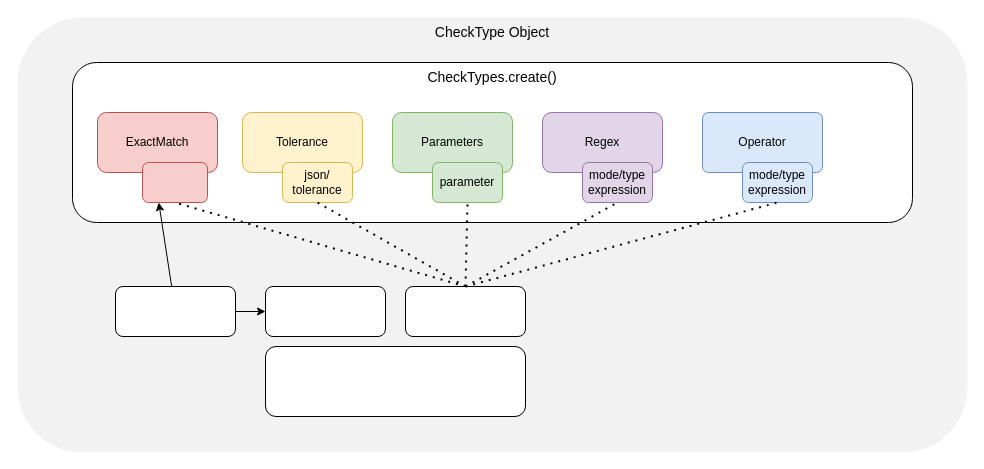
Some shapes in this 984 by 469 pixel diagram are drawn without their labels. The shapes that lost their labels are listed below. From the top down, each one's box as (x1, y1, x2, y2) in pixels, then its label:
(142, 162, 208, 202): json
(114, 286, 236, 336): get_data_from_json
(264, 286, 386, 336): reference_data
(404, 286, 526, 336): evaluate_args
(264, 346, 526, 416): evaluate
